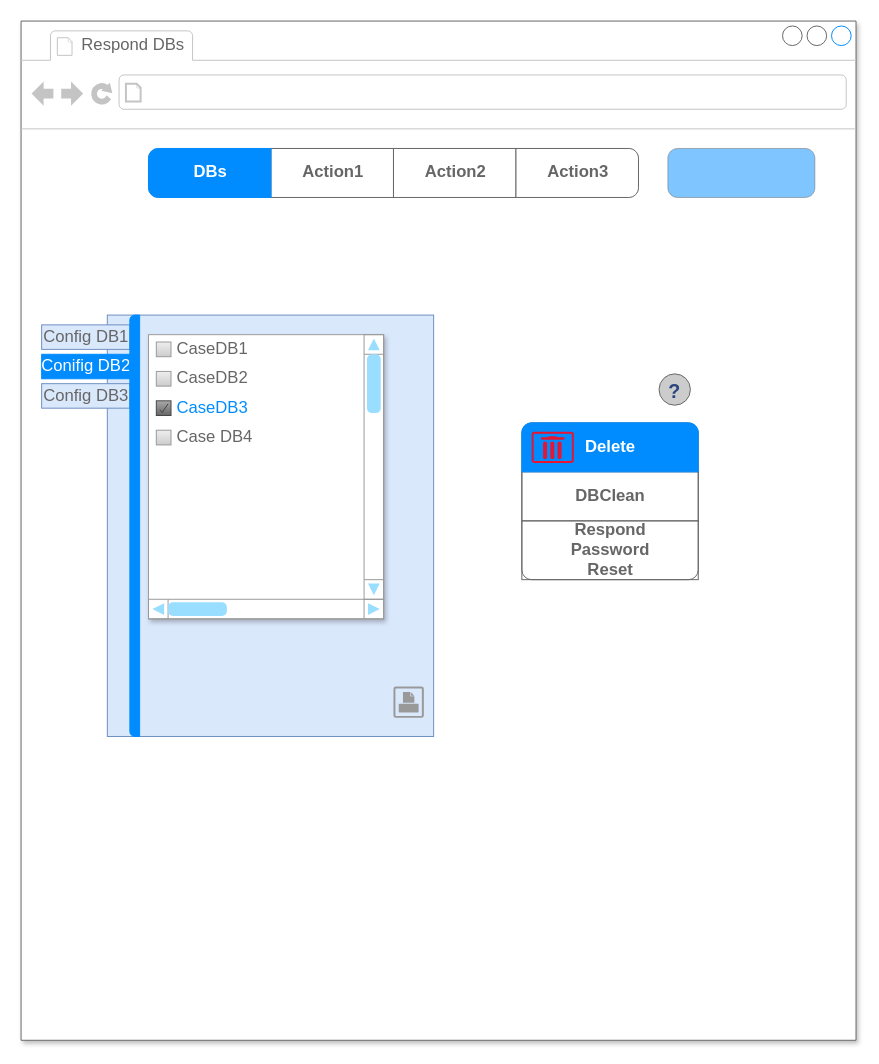
Some shapes in this 879 by 1064 pixel diagram are drawn without their labels. The shapes that lost their labels are listed below. From the top down, each one's centre as x and y in pixels, then its label:
At [270,92]: "http://RespondCaseDBs/DBs".
At [741,172]: "Logoff".
